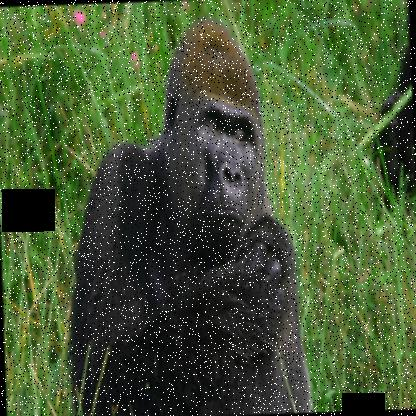Gorilla gorilla: (58, 15, 315, 415)
